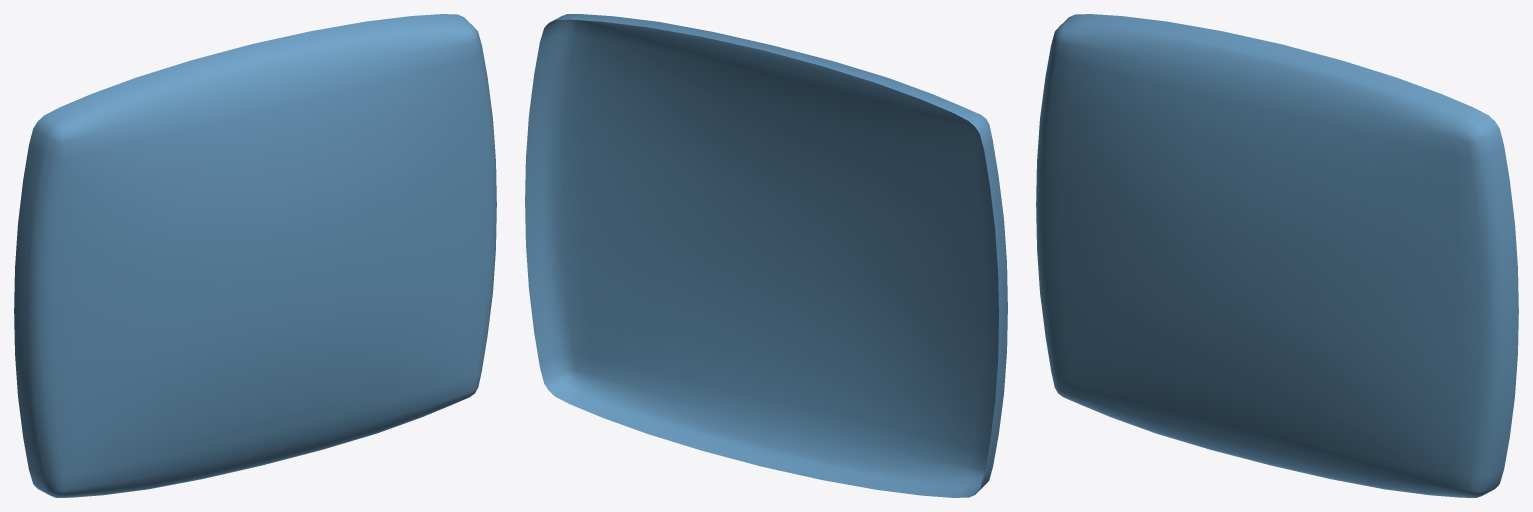
Rendered from TV_Glass.fbx.
3 views of the same model, side by side, from view 1: azimuth 30°, elevation 25°; view 2: azimuth 150°, elevation 25°; view 3: azimuth 330°, elevation 25° (orthographic).
Parts seen in each view (by area): view 1: TV_Glass; view 2: TV_Glass; view 3: TV_Glass.
Part boxes in pixels (x1,y1,x2,y2): TV_Glass: [14, 14, 496, 497]; TV_Glass: [525, 14, 1007, 497]; TV_Glass: [1036, 14, 1518, 497].
Size of the model in its own units: 523 by 440 by 63.6.
